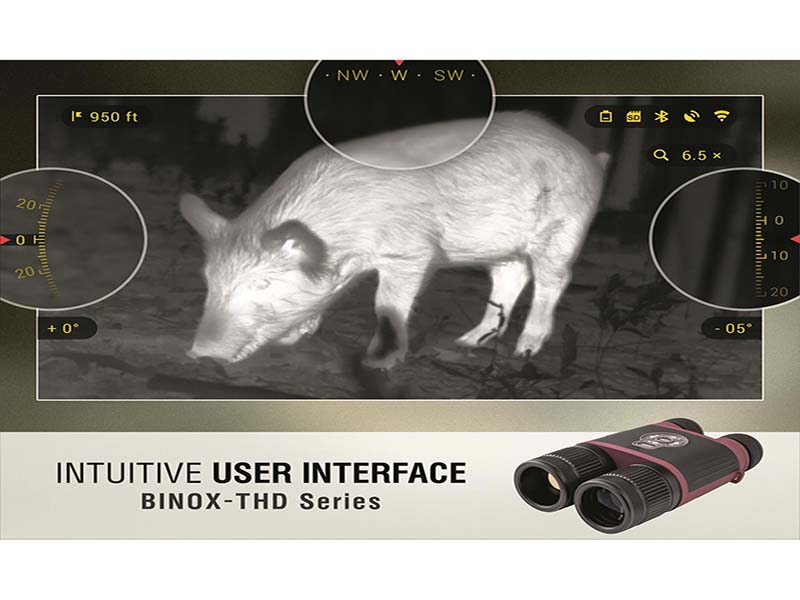cinghiale: (184, 122, 597, 373)
